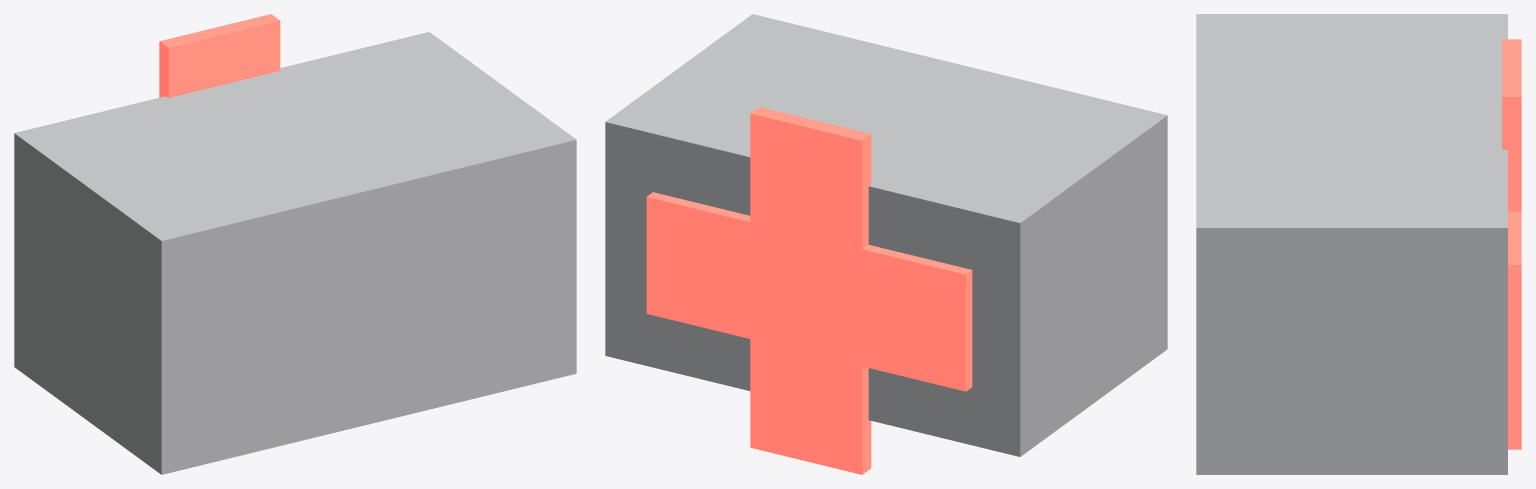
The model's file is medkit.glb.
3 renders of one model, left to right at view 1: azimuth 30°, elevation 25°; view 2: azimuth 150°, elevation 25°; view 3: azimuth 270°, elevation 25°, orthographic. The views are drawn at different scales.
Visible parts, largest first — view 1: Medkit; view 2: Medkit; view 3: Medkit.
Boxes of the visible parts, x1,y1,x2,y2 form: Medkit: (14, 14, 576, 474); Medkit: (605, 14, 1167, 474); Medkit: (1196, 14, 1521, 474).
Size of the model in its own units: 0.26 by 0.2 by 0.167.
